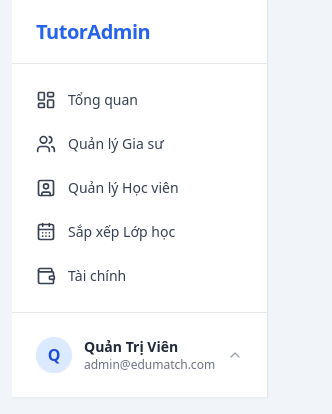
Sidebar component unit tests › toggles UserAccountMenu dropdown when clicking user account profile button
The width and height of the screenshot is (332, 414).
Expected: the text "Đăng xuất" is not shown
// Click profile button to open menu
Click the button "Q Quản Trị Viên admin@edumatch.com" at (140, 355), box top-left (28, 329), bottom-right (251, 381)
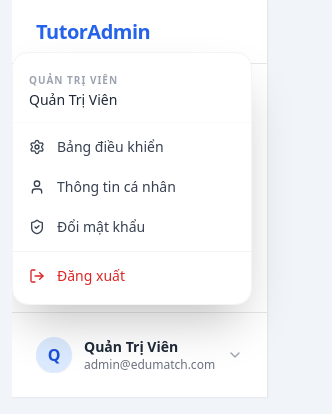
Result: the button "Đăng xuất" is shown
Result: the link "Bảng điều khiển" is shown at top-left (29, 137), bottom-right (164, 156)
// Click logout to trigger onClose
Click the button "Đăng xuất" at (132, 276), box top-left (13, 256), bottom-right (251, 296)
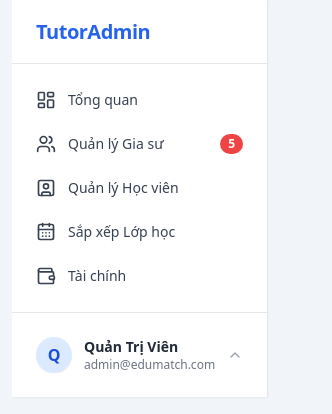
Result: the link "Bảng điều khiển" is gone
